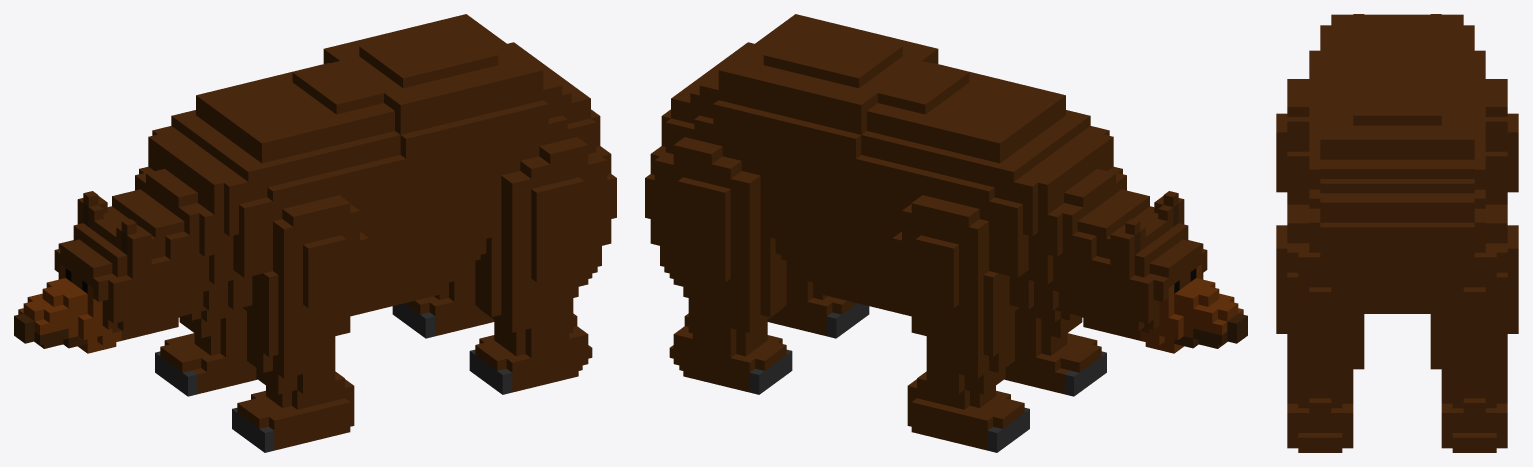
File: bear.glb
3 views of the same model, side by side, from view 1: azimuth 30°, elevation 25°; view 2: azimuth 150°, elevation 25°; view 3: azimuth 270°, elevation 25° (orthographic).
Bounding box in the file's own units: 1.16 × 0.62 × 0.44.
